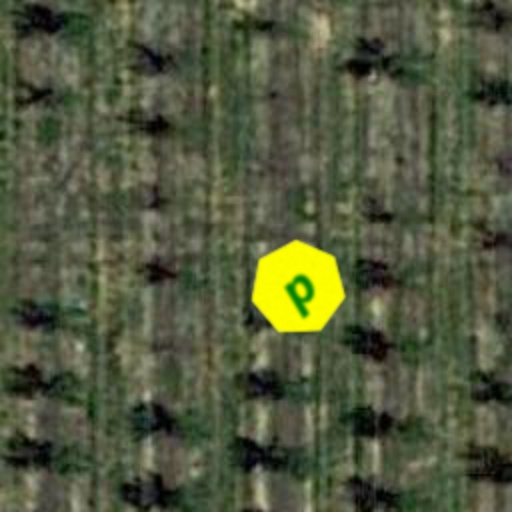heptagon: (228, 218, 368, 358)
